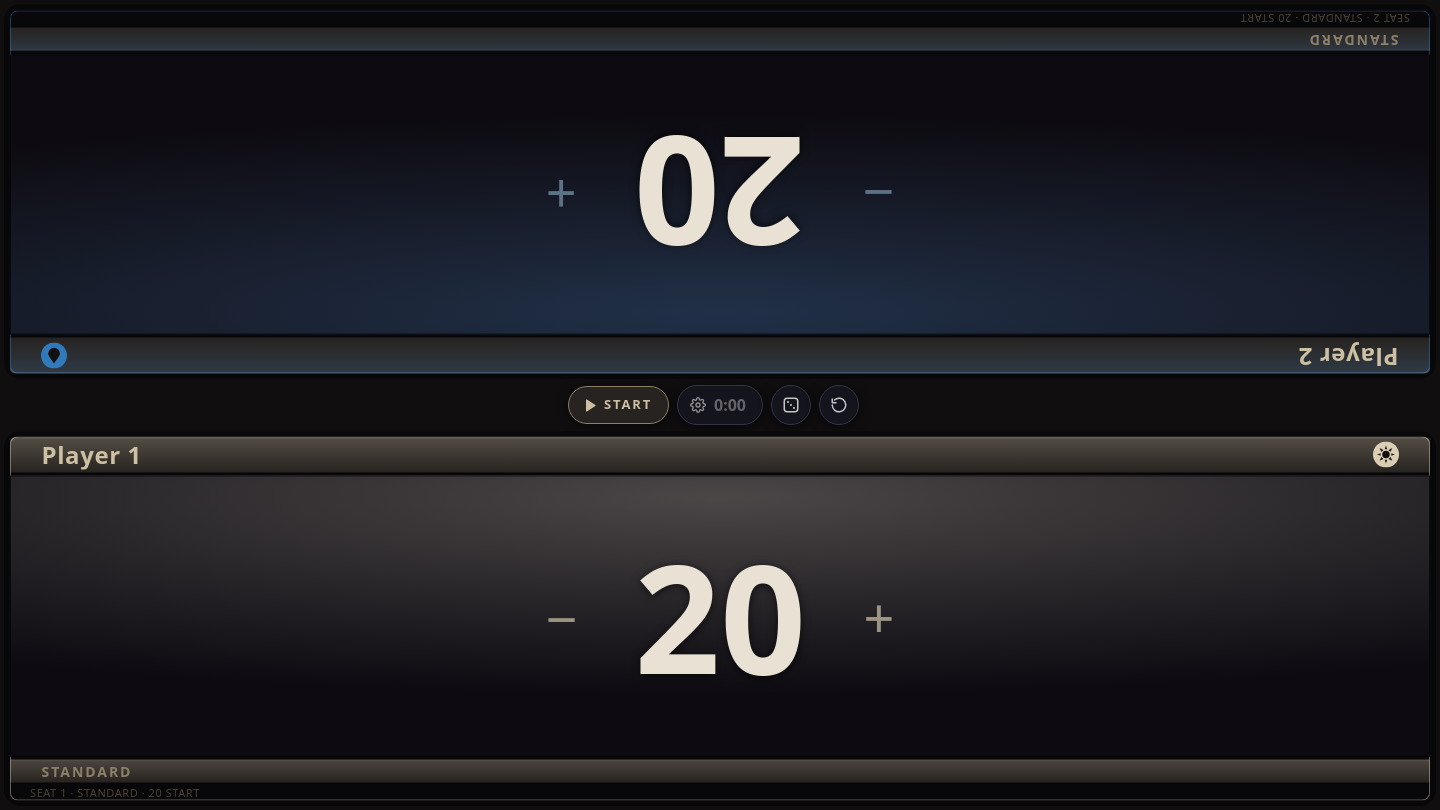
Test case: asking first (RESET-1) › does not mention commander damage in Standard
This screenshot has width=1440, height=810.
Click the button named "Reset the game": [839, 405] box [819,385,859,425]
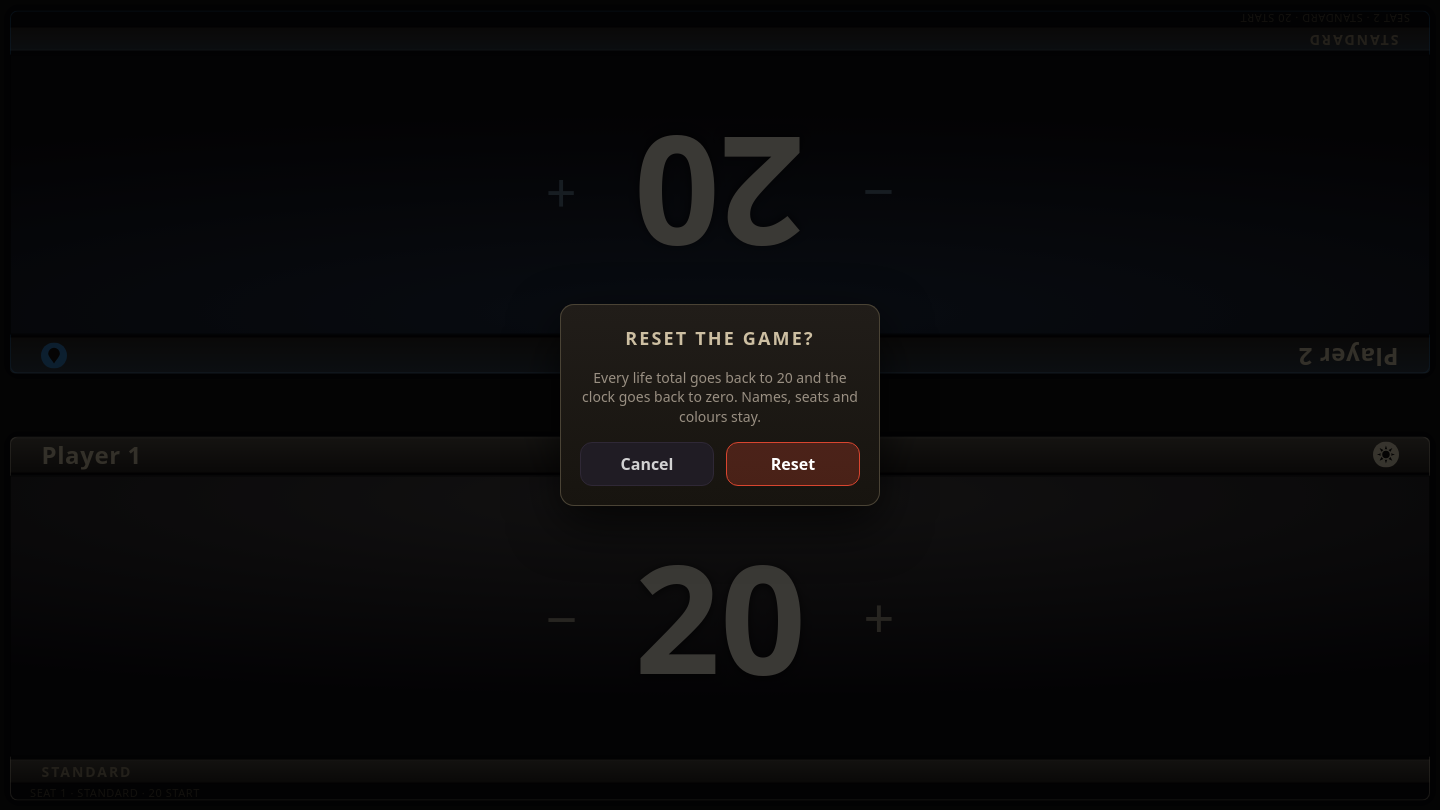
Check: the text "back to 20" is shown, box [582,368,847,406]
